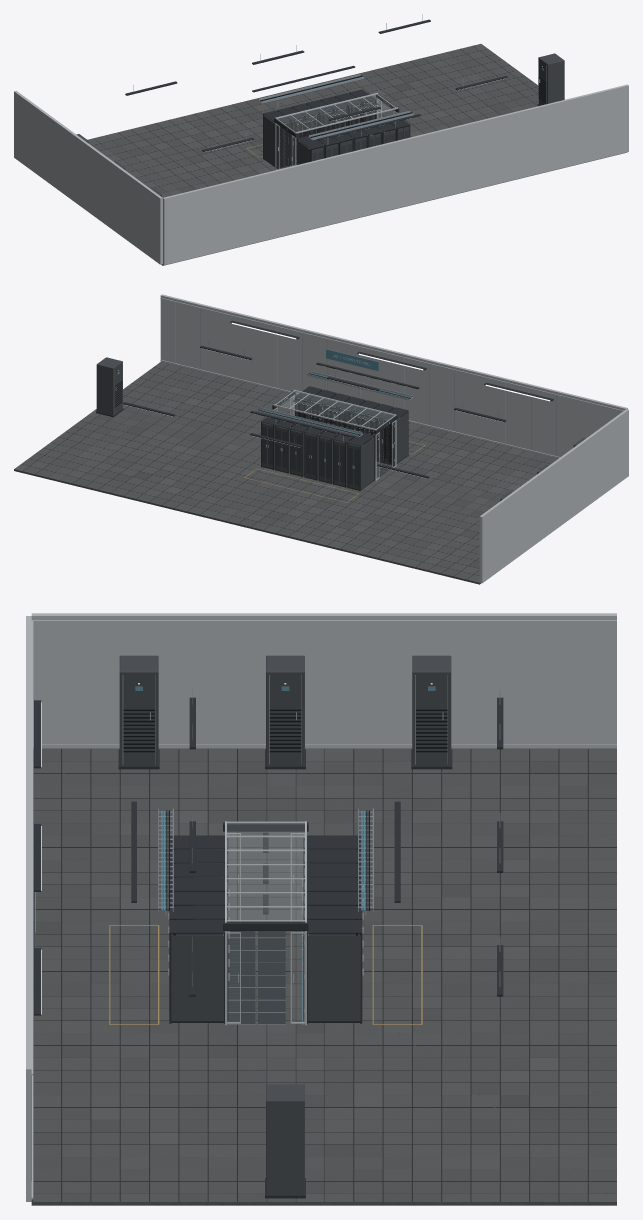
3 views of the same model, one above another, from view 1: azimuth 30°, elevation 25°; view 2: azimuth 150°, elevation 25°; view 3: azimuth 270°, elevation 25° (orthographic). The views are drawn at different scales.
Parts seen in each view (by area): view 1: ENV_WallBack, ENV_Floor, ENV_ContainRoof, ENV_RoomLuminaire, CRAC_4_body, ENV_TileFrame, ENV_ContainCrossbar, BODY_R11_back, BODY_R11_plinth, ENV_CableBundle.002; view 2: ENV_Floor, ENV_WallBack, ENV_ContainCrossbar, ENV_ContainRoof, ENV_TileFrame, ENV_RoomLuminaire, CRAC_4_body, BODY_R11_back, ENV_LightHousing, BODY_R01_back, ENV_RoomSignPanel, BODY_R11_plinth (+1 smaller); view 3: ENV_Floor, ENV_WallBack, ENV_ContainRoof, ENV_ContainCrossbar, ENV_AirTile, BODY_R17_back, BODY_R07_back, CRAC_4_body, CRAC_3_body, CRAC_1_body, CRAC_2_body, ENV_RoomLuminaire (+17 smaller).
Part boxes in pixels (x1,y1,x2,y2): ENV_WallBack: (14, 84, 628, 264); ENV_Floor: (87, 44, 627, 265); ENV_ContainRoof: (277, 93, 396, 131); ENV_RoomLuminaire: (125, 19, 507, 151); CRAC_4_body: (538, 53, 564, 105); ENV_TileFrame: (259, 74, 414, 144); ENV_ContainCrossbar: (275, 92, 398, 169); BODY_R11_back: (263, 115, 288, 167); BODY_R11_plinth: (263, 110, 289, 169); ENV_CableBundle.002: (260, 76, 411, 137); ENV_Floor: (14, 362, 557, 584); ENV_WallBack: (160, 294, 628, 583); ENV_ContainCrossbar: (160, 297, 623, 581); ENV_ContainRoof: (275, 390, 394, 428); ENV_TileFrame: (175, 302, 556, 476); ENV_RoomLuminaire: (123, 345, 506, 478); CRAC_4_body: (96, 357, 122, 415); BODY_R11_back: (348, 437, 373, 489); ENV_LightHousing: (230, 320, 553, 421); BODY_R01_back: (383, 412, 408, 464); ENV_RoomSignPanel: (326, 349, 378, 371); BODY_R11_plinth: (347, 432, 374, 491); ENV_Floor: (31, 748, 616, 1205); ENV_WallBack: (26, 613, 616, 1201); ENV_ContainRoof: (227, 822, 304, 920); ENV_ContainCrossbar: (31, 620, 616, 1199); ENV_AirTile: (228, 931, 285, 1024); BODY_R17_back: (307, 933, 360, 1020); BODY_R07_back: (171, 933, 223, 1020); CRAC_4_body: (266, 1084, 304, 1194); CRAC_3_body: (412, 655, 451, 765); CRAC_1_body: (119, 655, 158, 765); CRAC_2_body: (266, 655, 304, 765); ENV_RoomLuminaire: (131, 697, 503, 996).
Size of the model in its own units: 22.12 by 3.35 by 12.12.
Materials: 17 (3 with a texture image).
